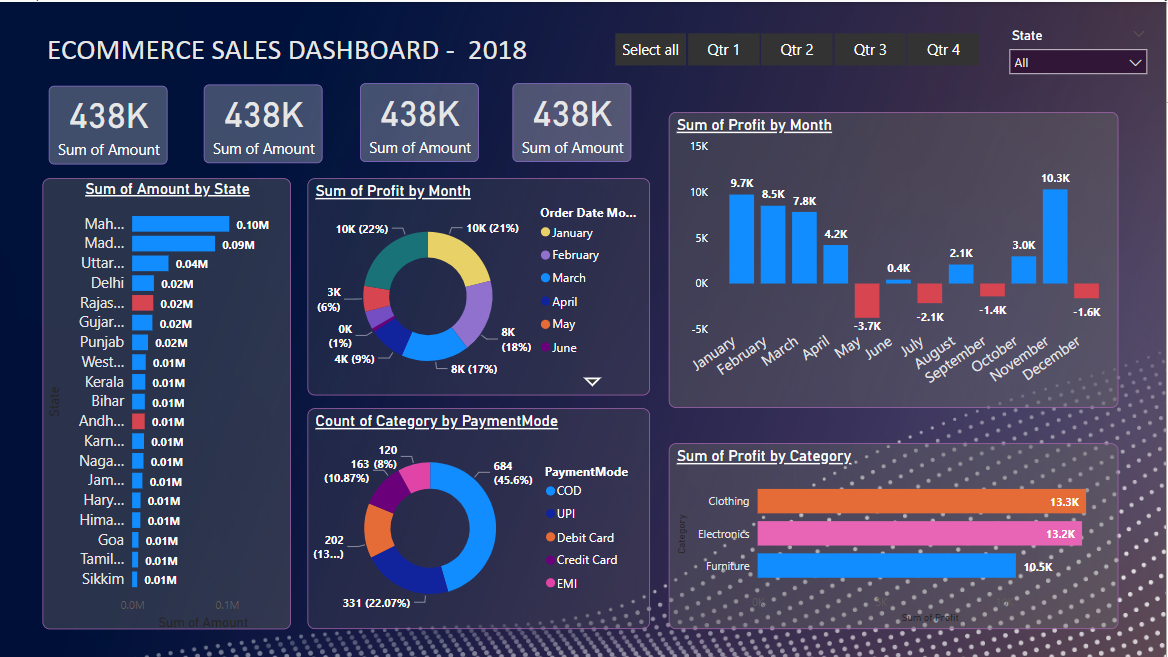

Layout of this report page (visuals, bound fields, positions):
{"tool":"powerbi","page":{"name":"Page 1","canvas":[1280,720],"ordinal":0},"visuals":[{"type":"donutChart","fields":{"Category":["Orders.Order Date.Variation.Date Hierarchy.Month"],"Y":["Sum(Details.Profit)"]},"box":[337.3,193.3,375.7,238.6],"z":1000},{"type":"barChart","fields":{"Category":["Details.Category"],"Y":["Sum(Details.Profit)"]},"box":[733.5,484,493.6,204.3],"z":2000},{"type":"donutChart","fields":{"Category":["Details.PaymentMode"],"Y":["CountNonNull(Details.Category)"]},"box":[337.3,445.6,375.7,242.7],"z":3000},{"type":"columnChart","fields":{"Y":["Sum(Details.Profit)"],"Category":["Orders.Order Date.Variation.Date Hierarchy.Month"]},"box":[733.5,120.7,493.6,324.9],"z":4000},{"type":"card","fields":{"Values":["Sum(Details.Amount)"]},"box":[53.5,91.9,130.2,86.4],"z":5000},{"type":"card","fields":{"Values":["Sum(Details.Amount)"]},"box":[223.5,90.5,130.2,86.4],"z":6000},{"type":"card","fields":{"Values":["Sum(Details.Amount)"]},"box":[562.1,89.1,130.2,86.4],"z":7000},{"type":"card","fields":{"Values":["Sum(Details.Amount)"]},"box":[394.9,89.1,130.2,86.4],"z":8000},{"type":"barChart","fields":{"Y":["Sum(Details.Amount)"],"Category":["Orders.State"]},"box":[46.6,193.3,272.8,494.9],"z":9000},{"type":"slicer","fields":{"Values":["Orders.State"]},"box":[1098.2,15.1,171.4,76.8],"z":10000},{"type":"slicer","fields":{"Values":["Orders.Order Date.Variation.Date Hierarchy.Quarter"]},"box":[648.5,19.2,449.7,57.6],"z":11000},{"type":"textbox","box":[46.7,19.2,572.2,60.4],"z":12000}]}

Visuals, with their boxes in screenshot pixels (x1, y1, x2, y2), scaled from the page's 1280x720 canvas onto the 1168x657 screenshot:
donutChart - Orders.Order Date.Variation.Date Hierarchy.Month x Sum(Details.Profit): bbox(308, 176, 651, 394)
barChart - Details.Category x Sum(Details.Profit): bbox(669, 442, 1120, 628)
donutChart - Details.PaymentMode x CountNonNull(Details.Category): bbox(308, 407, 651, 628)
columnChart - Sum(Details.Profit) x Orders.Order Date.Variation.Date Hierarchy.Month: bbox(669, 110, 1120, 407)
card - Sum(Details.Amount): bbox(49, 84, 168, 163)
card - Sum(Details.Amount): bbox(204, 83, 323, 161)
card - Sum(Details.Amount): bbox(513, 81, 632, 160)
card - Sum(Details.Amount): bbox(360, 81, 479, 160)
barChart - Sum(Details.Amount) x Orders.State: bbox(43, 176, 291, 628)
slicer - Orders.State: bbox(1002, 14, 1159, 84)
slicer - Orders.Order Date.Variation.Date Hierarchy.Quarter: bbox(592, 18, 1002, 70)
textbox: bbox(43, 18, 565, 73)
